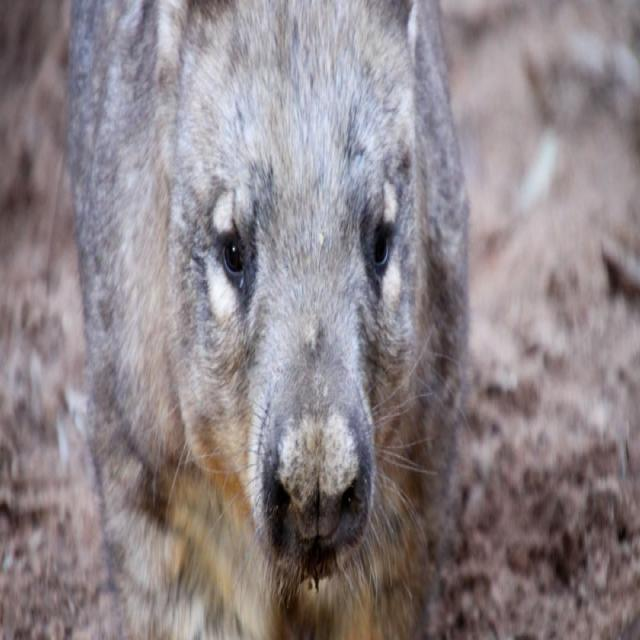Wombat: (54, 0, 473, 633)
